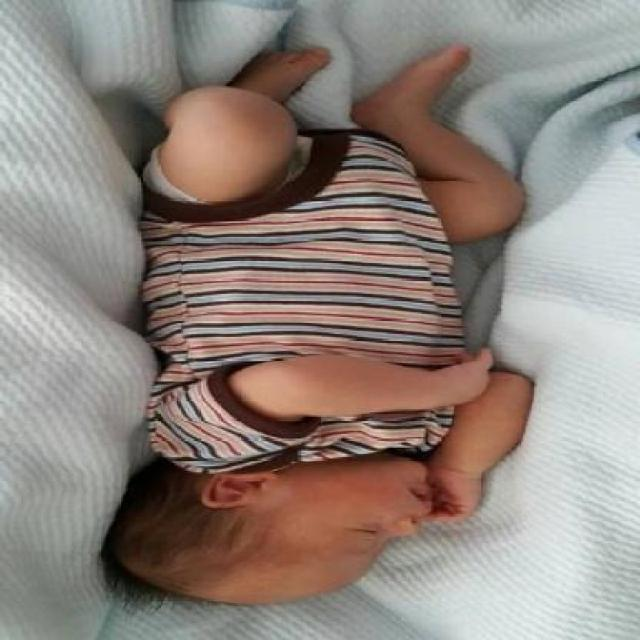baby: (109, 46, 534, 608)
